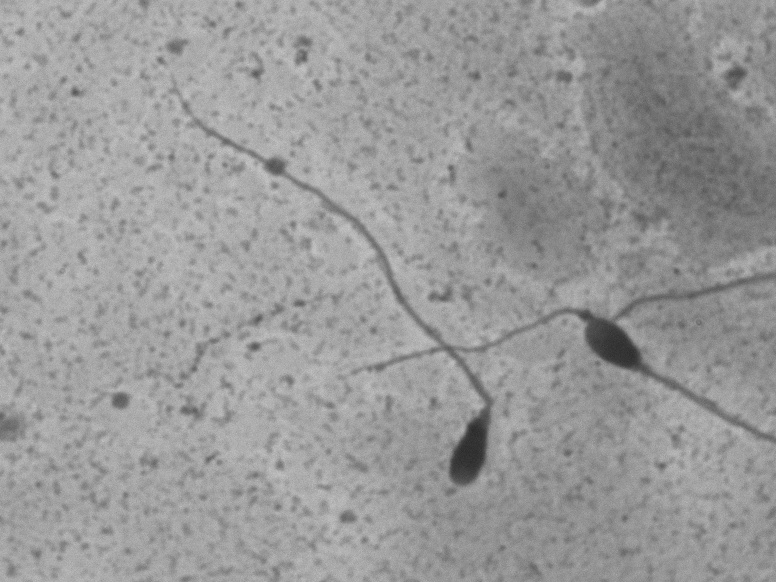Abnormal: (138, 59, 506, 513), (578, 295, 740, 468)
